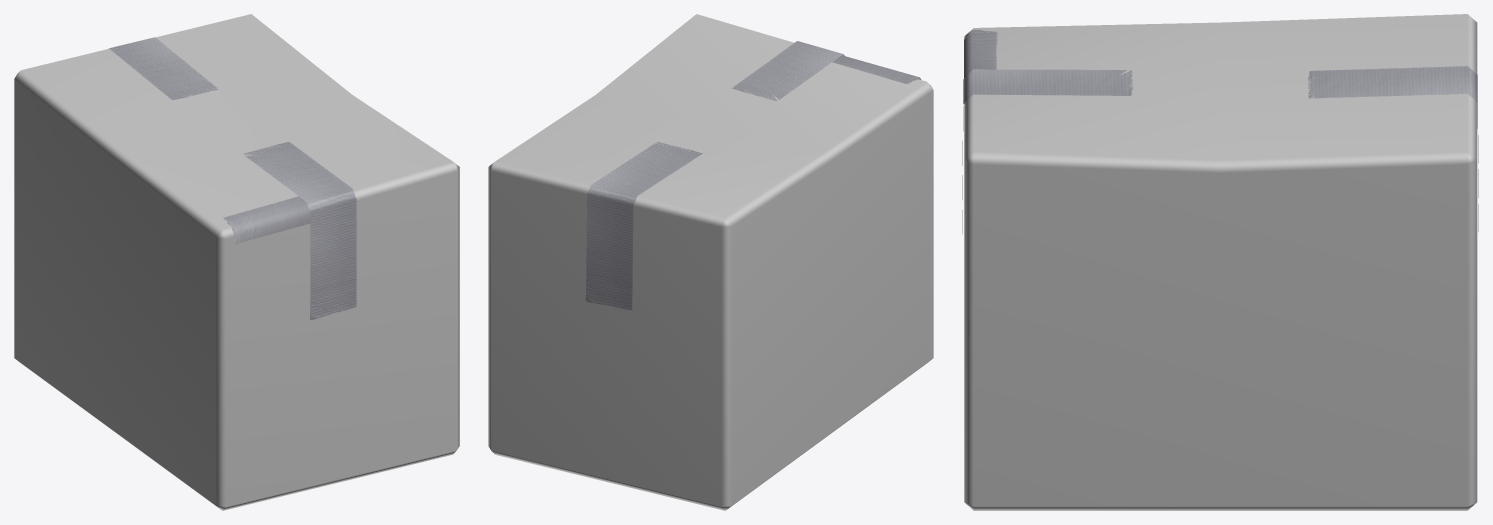
File: SeanElston_Box_03.fbx
The picture shows the model from 3 angles, left to right: view 1: azimuth 30°, elevation 25°; view 2: azimuth 150°, elevation 25°; view 3: azimuth 270°, elevation 25°; orthographic projection. The views are drawn at different scales.
Parts seen in each view (by area): view 1: Box110; view 2: Box110; view 3: Box110.
Part boxes in pixels (x1,y1,x2,y2): Box110: (14,14,459,510); Box110: (488,14,933,510); Box110: (962,14,1478,510).
Size of the model in its own units: 35.71 by 41.05 by 53.46.
